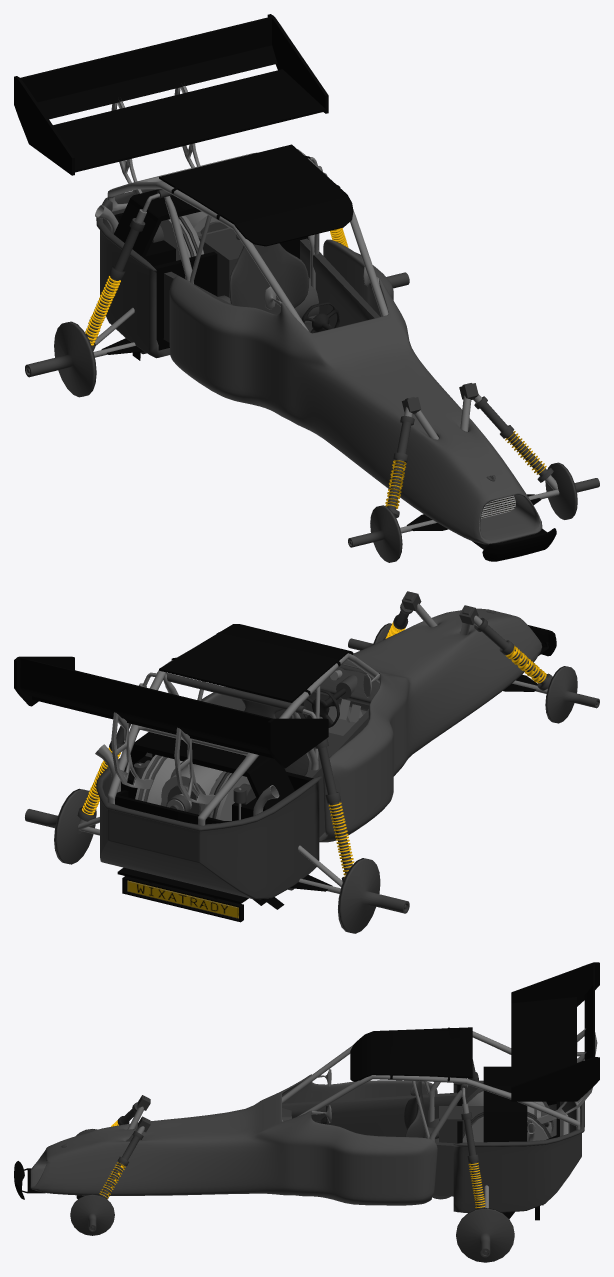
File: space_buggy.glb
The picture shows the model from 3 angles, top to bottom: view 1: azimuth 30°, elevation 25°; view 2: azimuth 150°, elevation 25°; view 3: azimuth 270°, elevation 25°; orthographic projection. The views are drawn at different scales.
Visible parts, largest first — view 1: pCube21, pCube3, pCube19, pCube5, pCube14, pCube13, pCube11, pCylinder2, pCube6, pCube7, pCylinder40, pCylinder60 (+6 smaller); view 2: pCube21, pCube5, pCube3, pCube19, pCube6, pCylinder2, pCube11, pCube7, pCylinder61, pCube13, pCube4, pCylinder28 (+12 smaller); view 3: pCube21, pCube3, pCube5, pCube19, pCube13, pCube6, pCylinder61, pCube11, pCylinder39, pCube14, pCylinder28, pCube28 (+5 smaller).
Part boxes in pixels (<box>): pCube21: <box>169,239,542,544</box>; pCube3: <box>14,14,328,175</box>; pCube19: <box>159,144,353,246</box>; pCube5: <box>96,189,319,358</box>; pCube14: <box>229,234,312,331</box>; pCube13: <box>163,238,379,342</box>; pCube11: <box>107,149,388,330</box>; pCylinder2: <box>25,321,96,397</box>; pCube6: <box>114,189,201,266</box>; pCube7: <box>132,236,308,360</box>; pCylinder40: <box>387,396,553,517</box>; pCylinder60: <box>348,505,402,562</box>; pCube21: <box>201,608,542,842</box>; pCube5: <box>96,752,322,899</box>; pCube3: <box>14,656,328,768</box>; pCube19: <box>159,624,353,702</box>; pCube6: <box>115,732,294,824</box>; pCylinder2: <box>338,858,409,933</box>; pCube11: <box>107,652,379,825</box>; pCube7: <box>117,754,313,922</box>; pCylinder61: <box>25,788,96,864</box>; pCube13: <box>237,670,379,837</box>; pCube4: <box>111,712,215,804</box>; pCylinder28: <box>77,723,352,882</box>; pCube21: <box>30,1074,437,1205</box>; pCube3: <box>511,962,599,1101</box>; pCube5: <box>453,1080,584,1212</box>; pCube19: <box>350,1027,472,1081</box>; pCube13: <box>282,1092,457,1196</box>; pCube6: <box>483,1066,559,1142</box>; pCylinder61: <box>456,1208,514,1262</box>; pCube11: <box>282,1031,580,1129</box>; pCylinder39: <box>70,1194,114,1235</box>; pCube14: <box>404,1081,438,1138</box>; pCylinder28: <box>461,1059,484,1208</box>; pCube28: <box>439,1106,483,1143</box>.
Size of the model in its own units: 2.61 by 1.71 by 4.57.
Materials: 11 (2 with a texture image).
